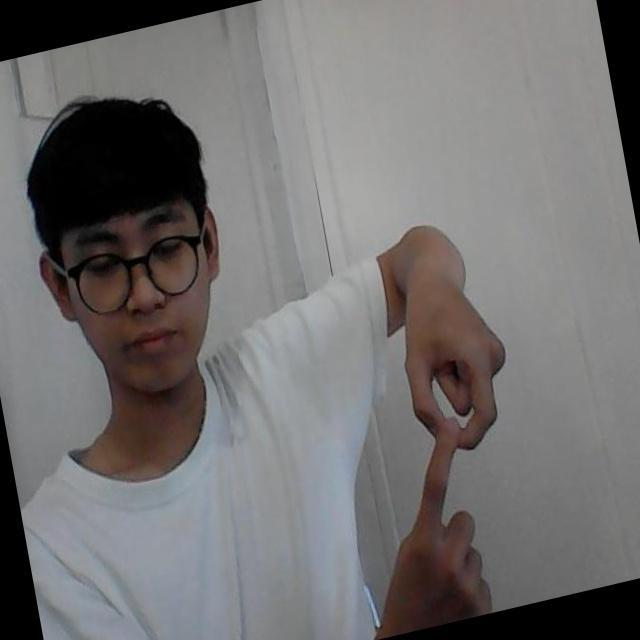Q: (385, 289, 516, 622)
